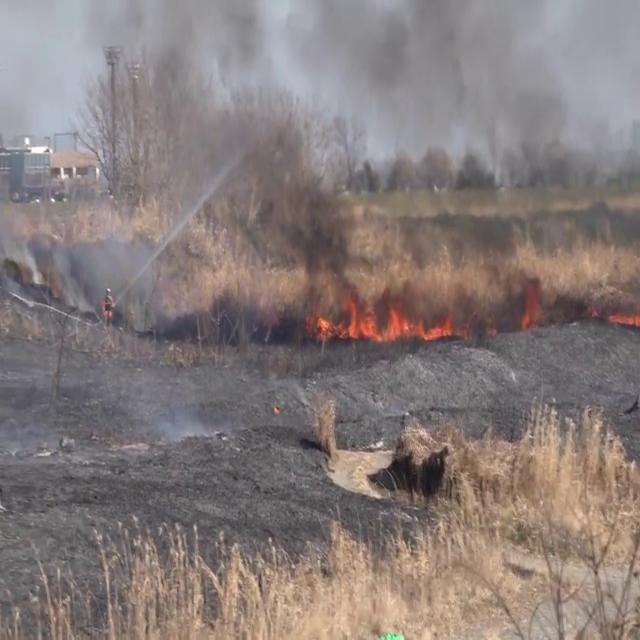Fire: (308, 293, 466, 350)
Smoke: (363, 0, 619, 306), (104, 0, 358, 307), (0, 183, 94, 322)
